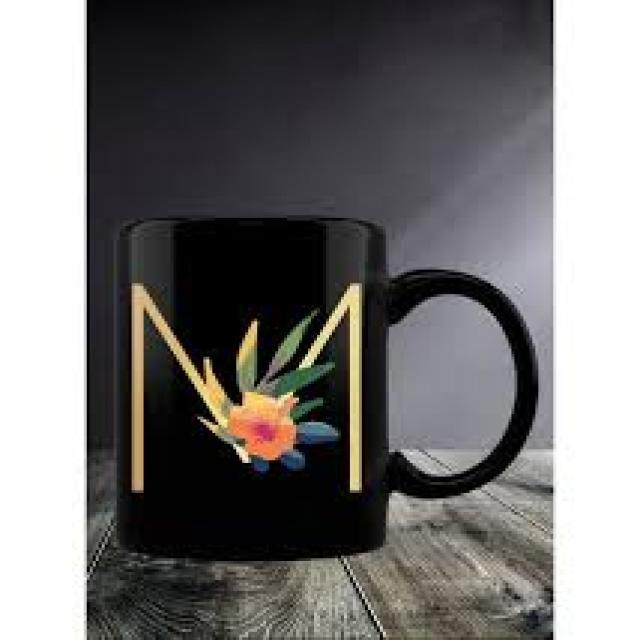taza: (117, 217, 538, 563)
